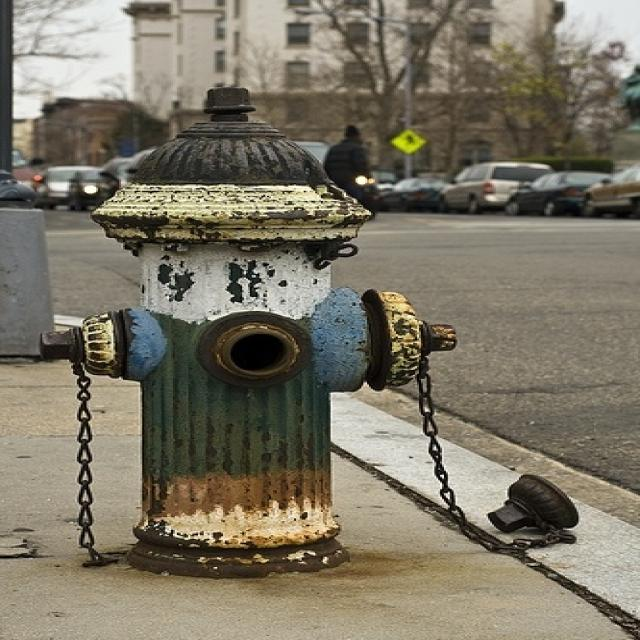fire_hydrant: (58, 107, 498, 630)
